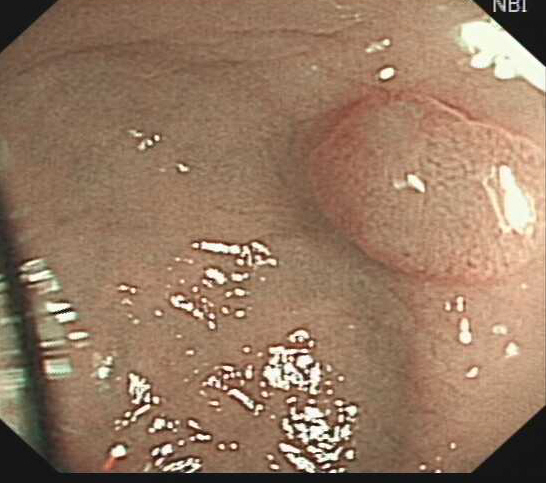adenoma: (304, 88, 546, 285)
